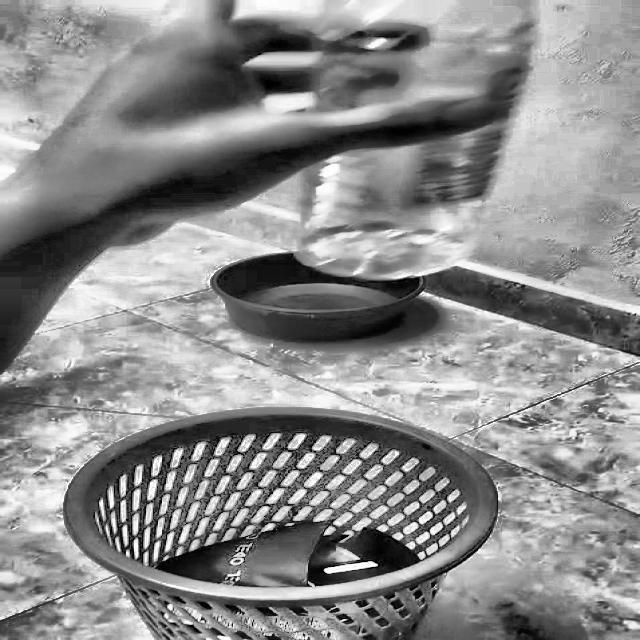Dustbin: (58, 410, 545, 640)
Empty: (88, 414, 499, 596)
Plastic-Bottle: (293, 0, 542, 290)
